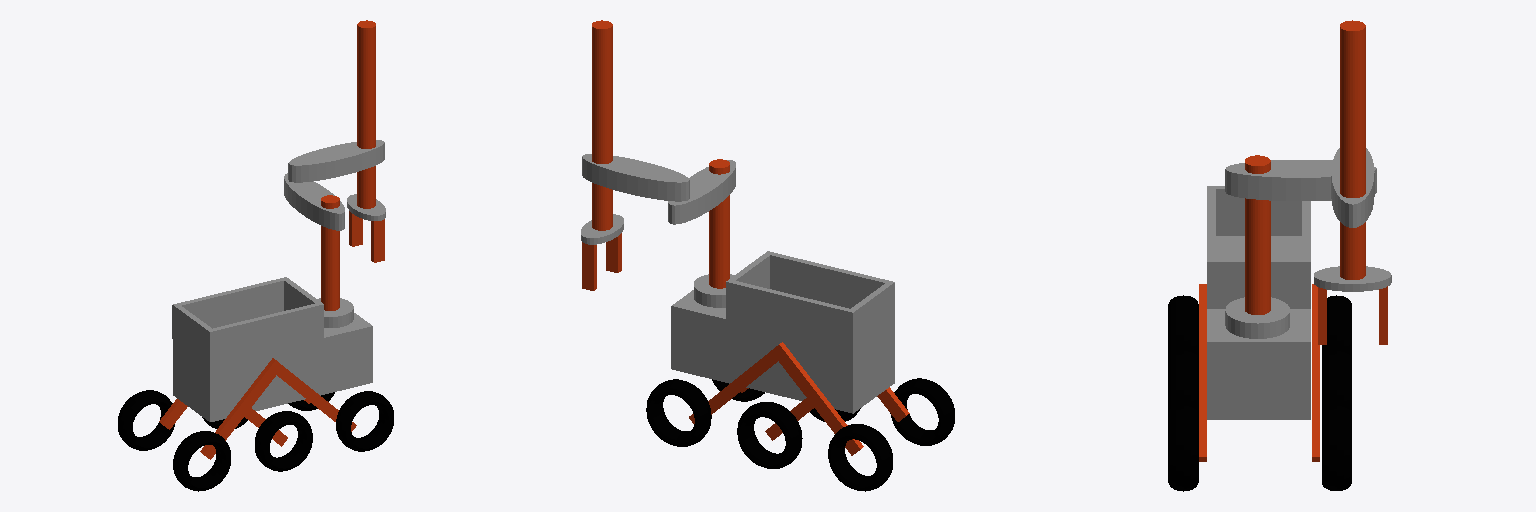
The robot description file, URDF, robot "rover_modelado":
<!-- <xacro:property name="mesh_path" value="package://rover_description/meshes/dae"/> -->
<!-- created with Phobos 1.0.1 "Capricious Choutengan" -->
<robot name="rover_modelado" version="1.0">

  <link name="base_footprint"/>

  <joint name="base_footprint_to_base_link" type="fixed">
    <origin xyz="0 0 0.5" rpy="0 0 0"/>
    <parent link="base_footprint"/>
    <child link="base_link"/>
  </joint>

  <link name="base_link"/>

  <joint name="base_link_to_body_link" type="fixed">
    <origin xyz="0 0 0" rpy="0 0 0"/>
    <parent link="base_link"/>
    <child link="body_link"/>
  </joint>

  <joint name="axis_left_link_joint" type="fixed">
    <origin rpy="1.60974 -0.01480 -0.06763" xyz="-0.35085 -0.70000 -0.47400"/>
    <parent link="body_link"/>
    <child link="axis_left_link"/>
    <axis xyz="0.00000 0.00000 1.00000"/>
  </joint>
  <joint name="back_left_wheel_link_joint" type="continuous">
    <limit effort="0.00000" velocity="0.00000"/>
    <origin rpy="-0.03655 0.06700 -0.01743" xyz="-1.43329 -0.48979 0.41533"/>
    <parent link="axis_left_link"/>
    <child link="back_left_wheel_link"/>
    <axis xyz="0.00000 0.00000 1.00000"/>
  </joint>
  <joint name="body_left_box_link_joint" type="fixed">
    <origin rpy="0.00000 0.00000 1.57080" xyz="-0.45192 -0.55000 0.79129"/>
    <parent link="body_link"/>
    <child link="body_left_box_link"/>
  </joint>
  <joint name="body_right_box_link_joint" type="fixed">
    <origin rpy="0.00000 0.00000 1.57080" xyz="-0.45192 0.55000 0.79129"/>
    <parent link="body_link"/>
    <child link="body_right_box_link"/>
  </joint>
  <joint name="fixed_base_arm_link_joint" type="fixed">
    <origin rpy="0.00000 0.00000 0.00000" xyz="1.05420 -0.01261 0.59836"/>
    <parent link="body_link"/>
    <child link="fixed_base_arm_link"/>
  </joint>
  <joint name="l0_arm_link_joint" type="fixed">
    <origin rpy="0.00000 0.00000 0.00000" xyz="0.00000 0.00000 -0.04593"/>
    <parent link="fixed_base_arm_link"/>
    <child link="l0_arm_link"/>
  </joint>
  <joint name="l1_arm_link_joint" type="continuous">
    <limit effort="0.00000" velocity="0.00000"/>
    <origin rpy="0.00000 0.00000 0.00000" xyz="0.00000 0.00480 1.93831"/>
    <parent link="l0_arm_link"/>
    <child link="l1_arm_link"/>
    <axis xyz="0.00000 0.00000 1.00000"/>
  </joint>
  <joint name="l2_arm_link_joint" type="revolute">
    <limit lower="-3.14000" upper="3.14000" effort="0.00000" velocity="0.00000"/>
    <origin rpy="0.00000 0.00000 1.57080" xyz="0.04172 1.09520 0.15762"/>
    <parent link="l1_arm_link"/>
    <child link="l2_arm_link"/>
    <axis xyz="0.00000 0.00000 1.00000"/>
  </joint>
  <joint name="l3_arm_link_joint" type="prismatic">
    <limit lower="-2.40000" upper="0.80000" effort="0.00000" velocity="0.00000"/>
    <origin rpy="0.00000 0.00000 -1.57080" xyz="0.00000 -1.26247 0.09521"/>
    <parent link="l2_arm_link"/>
    <child link="l3_arm_link"/>
    <axis xyz="0.00000 0.00000 1.00000"/>
  </joint>
  <joint name="clamp_base_link_joint" type="continuous">
    <limit effort="0.00000" velocity="0.00000"/>
    <origin rpy="0.00000 0.00000 0.00000" xyz="-0.00223 -0.00306 -0.95588"/>
    <parent link="l3_arm_link"/>
    <child link="clamp_base_link"/>
    <axis xyz="0.00000 0.00000 1.00000"/>
  </joint>
  <joint name="left_clamp_link_joint" type="prismatic">
    <limit lower="0.00000" upper="0.40000" effort="0.00000" velocity="0.00000"/>
    <origin rpy="-1.57080 0.00000 0.00000" xyz="0.01328 -0.34694 -0.48139"/>
    <parent link="clamp_base_link"/>
    <child link="left_clamp_link"/>
    <axis xyz="0.00000 0.00000 1.00000"/>
  </joint>
  <joint name="right_clamp_link_joint" type="prismatic">
    <limit lower="0.00000" upper="0.40000" effort="0.00000" velocity="0.00000"/>
    <origin rpy="1.57080 0.00000 0.00000" xyz="0.01328 0.35306 -0.50058"/>
    <parent link="clamp_base_link"/>
    <child link="right_clamp_link"/>
    <axis xyz="0.00000 0.00000 1.00000"/>
  </joint>
  <joint name="front_left_wheel_link_joint" type="continuous">
    <limit effort="0.00000" velocity="0.00000"/>
    <origin rpy="-0.03655 0.06700 -0.01743" xyz="1.55952 -0.54195 0.21447"/>
    <parent link="axis_left_link"/>
    <child link="front_left_wheel_link"/>
    <axis xyz="0.00000 0.00000 1.00000"/>
  </joint>
  <joint name="mid_left_wheel_link_joint" type="continuous">
    <limit effort="0.00000" velocity="0.00000"/>
    <origin rpy="-0.03655 0.06700 -0.01743" xyz="0.06311 -0.51587 0.31490"/>
    <parent link="axis_left_link"/>
    <child link="mid_left_wheel_link"/>
    <axis xyz="0.00000 0.00000 1.00000"/>
  </joint>
  <joint name="axis_right_link_joint" type="fixed">
    <origin rpy="-1.57080 0.00000 -0.02477" xyz="-0.35085 0.70000 -0.47400"/>
    <parent link="body_link"/>
    <child link="axis_right_link"/>
    <axis xyz="0.00000 0.00000 1.00000"/>
  </joint>
  <joint name="back_right_wheel_link_joint" type="continuous">
    <limit effort="0.00000" velocity="0.00000"/>
    <origin rpy="3.14159 -0.02477 -0.00000" xyz="-1.45614 0.52600 0.26402"/>
    <parent link="axis_right_link"/>
    <child link="back_right_wheel_link"/>
    <axis xyz="0.00000 0.00000 1.00000"/>
  </joint>
  <joint name="front_right_wheel_link_joint" type="continuous">
    <limit effort="0.00000" velocity="0.00000"/>
    <origin rpy="3.14159 -0.02477 -0.00000" xyz="1.54294 0.52600 0.33832"/>
    <parent link="axis_right_link"/>
    <child link="front_right_wheel_link"/>
    <axis xyz="0.00000 0.00000 1.00000"/>
  </joint>
  <joint name="mid_right_wheel_link_joint" type="continuous">
    <limit effort="0.00000" velocity="0.00000"/>
    <origin rpy="3.14159 -0.02477 -0.00000" xyz="0.04340 0.52600 0.30117"/>
    <parent link="axis_right_link"/>
    <child link="mid_right_wheel_link"/>
    <axis xyz="0.00000 0.00000 1.00000"/>
  </joint>
  <joint name="body_back_box_link_joint" type="fixed">
    <origin rpy="0.00000 0.00000 0.00000" xyz="-1.45000 0.00000 0.79130"/>
    <parent link="body_link"/>
    <child link="body_back_box_link"/>
  </joint>
  <joint name="body_front_box_link_joint" type="fixed">
    <origin rpy="0.00000 0.00000 0.00000" xyz="0.54967 0.00000 0.79130"/>
    <parent link="body_link"/>
    <child link="body_front_box_link"/>
  </joint>
  <link name="body_link">
    <collision name="body_collision">
      <origin rpy="0.00000 0.00000 0.00000" xyz="0.00000 0.00000 0.00000"/>
      <geometry>
        <box size="3.00000 1.20000 1.00000"/>
      </geometry>
    </collision>
    <inertial>
      <inertia ixx="10.16667" ixy="0.00000" ixz="0.00000" iyy="41.66667" iyz="0.00000" izz="43.50000"/>
      <origin rpy="0.00000 0.00000 0.00000" xyz="0.00000 0.00000 0.00000"/>
      <mass value="50.00000"/>
    </inertial>
    <visual name="body">
      <material name="Material.005"/>
      <origin rpy="0.00000 0.00000 0.00000" xyz="0.00000 0.00000 0.00000"/>
      <geometry>
        <box size="3.00000 1.20000 1.00000"/>
      </geometry>
    </visual>
  </link>
  <link name="axis_left_link">
    <collision name="axis_left_collision">
      <origin rpy="-1.55093 0.07494 0.77002" xyz="-0.01304 0.01116 -0.07670"/>
      <geometry>
        <mesh filename="../meshes/dae/Cube.005.dae" scale="0.95000 0.05000 0.10000"/>
      </geometry>
    </collision>
    <inertial>
      <inertia ixx="0.00100" ixy="-0.00000" ixz="-0.00000" iyy="0.00100" iyz="0.00000" izz="0.00100"/>
      <origin rpy="0.00000 0.00000 0.00000" xyz="0.00000 -0.00000 0.00000"/>
      <mass value="3.00000"/>
    </inertial>
    <visual name="axis_left">
      <material name="orange.001"/>
      <origin rpy="-1.55093 0.07494 0.77002" xyz="-0.00365 -0.00204 -0.05382"/>
      <geometry>
        <mesh filename="../meshes/dae/Cube.005.dae" scale="0.95000 0.05000 0.10000"/>
      </geometry>
    </visual>
  </link>
  <link name="body_front_box_link">
    <collision name="body_front_box_collision">
      <origin rpy="0.00000 0.00000 0.00000" xyz="0.00000 0.00000 0.00000"/>
      <geometry>
        <box size="0.10000 1.20000 0.60000"/>
      </geometry>
    </collision>
    <visual name="body_front_box">
      <material name="Material.005"/>
      <origin rpy="0.00000 0.00000 0.00000" xyz="0.00000 0.00000 0.00000"/>
      <geometry>
        <box size="0.10000 1.20000 0.60000"/>
      </geometry>
    </visual>
  </link>
  <link name="body_left_box_link">
    <collision name="body_left_box_collision">
      <origin rpy="0.00000 0.00000 -0.00000" xyz="-0.00000 -0.00000 0.00000"/>
      <geometry>
        <box size="0.10000 2.10000 0.60000"/>
      </geometry>
    </collision>
    <visual name="body_left_box">
      <material name="Material.005"/>
      <origin rpy="0.00000 0.00000 0.00000" xyz="0.00000 -0.00000 0.00000"/>
      <geometry>
        <box size="0.10000 2.10000 0.60000"/>
      </geometry>
    </visual>
  </link>
  <link name="body_right_box_link">
    <collision name="body_right_box_collision">
      <origin rpy="0.00000 0.00000 -0.00000" xyz="0.00000 0.00000 0.00000"/>
      <geometry>
        <box size="0.10000 2.10000 0.60000"/>
      </geometry>
    </collision>
    <visual name="body_right_box">
      <material name="Material.006"/>
      <origin rpy="0.00000 0.00000 0.00000" xyz="0.00000 0.00000 0.00000"/>
      <geometry>
        <box size="0.10000 2.10000 0.60000"/>
      </geometry>
    </visual>
  </link>
  <link name="fixed_base_arm_link">
    <collision name="fixed_base_arm_collision">
      <origin rpy="0.00000 0.00000 0.00000" xyz="0.00000 0.00000 0.00000"/>
      <geometry>
        <mesh filename="../meshes/dae/Cylinder.dae" scale="0.37500 0.37500 0.10000"/>
      </geometry>
    </collision>
    <inertial>
      <inertia ixx="0.19132" ixy="0.00000" ixz="0.00000" iyy="0.19132" iyz="0.00000" izz="0.34931"/>
      <origin rpy="0.00000 0.00000 0.00000" xyz="0.00000 0.00000 0.00000"/>
      <mass value="5.00000"/>
    </inertial>
    <visual name="fixed_base_arm">
      <material name="Material.005"/>
      <origin rpy="0.00000 0.00000 0.00000" xyz="0.00000 0.00000 0.00000"/>
      <geometry>
        <mesh filename="../meshes/dae/Cylinder.dae" scale="0.37500 0.37500 0.10000"/>
      </geometry>
    </visual>
  </link>
  <link name="l0_arm_link">
    <collision name="l0_arm_collision">
      <origin rpy="0.00000 0.00000 0.00000" xyz="0.00000 0.00000 1.04593"/>
      <geometry>
        <mesh filename="../meshes/dae/Cylinder.001.dae" scale="0.15000 0.15000 1.00000"/>
      </geometry>
    </collision>
    <inertial>
      <inertia ixx="1.69461" ixy="0.00000" ixz="0.00000" iyy="1.69461" iyz="0.00000" izz="0.05589"/>
      <origin rpy="0.00000 0.00000 0.00000" xyz="0.00000 0.00000 1.04593"/>
      <mass value="5.00000"/>
    </inertial>
    <visual name="l0_arm">
      <material name="orange"/>
      <origin rpy="0.00000 0.00000 0.00000" xyz="0.00000 0.00000 1.04593"/>
      <geometry>
        <mesh filename="../meshes/dae/Cylinder.001.dae" scale="0.15000 0.15000 1.00000"/>
      </geometry>
    </visual>
  </link>
  <link name="l1_arm_link">
    <collision name="l1_arm_collision">
      <origin rpy="0.00000 0.00000 0.00000" xyz="0.00000 0.49520 -0.14238"/>
      <geometry>
        <mesh filename="../meshes/dae/Cylinder.002.dae" scale="0.25000 0.87500 0.15000"/>
      </geometry>
    </collision>
    <inertial>
      <inertia ixx="0.98840" ixy="-0.00000" ixz="0.00000" iyy="0.11512" iyz="-0.00000" izz="1.02853"/>
      <origin rpy="0.00000 0.00000 0.00000" xyz="0.00000 0.49520 -0.14238"/>
      <mass value="5.00000"/>
    </inertial>
    <visual name="l1_arm">
      <material name="Material.005"/>
      <origin rpy="0.00000 0.00000 0.00000" xyz="0.00000 0.49520 -0.14238"/>
      <geometry>
        <mesh filename="../meshes/dae/Cylinder.002.dae" scale="0.25000 0.87500 0.15000"/>
      </geometry>
    </visual>
  </link>
  <link name="l2_arm_link">
    <collision name="l2_arm_collision">
      <origin rpy="0.00000 0.00000 0.00000" xyz="0.00000 -0.70828 0.00000"/>
      <geometry>
        <mesh filename="../meshes/dae/Cylinder.003.dae" scale="0.25000 0.87500 0.15000"/>
      </geometry>
    </collision>
    <inertial>
      <inertia ixx="0.04605" ixy="-0.00000" ixz="0.00000" iyy="0.39536" iyz="-0.00000" izz="0.41141"/>
      <origin rpy="0.00000 0.00000 0.00000" xyz="0.00000 -0.70828 0.00000"/>
      <mass value="2.00000"/>
    </inertial>
    <visual name="l2_arm">
      <material name="Material.005"/>
      <origin rpy="0.00000 0.00000 -0.00000" xyz="0.00000 -0.70828 0.00000"/>
      <geometry>
        <mesh filename="../meshes/dae/Cylinder.003.dae" scale="0.25000 0.87500 0.15000"/>
      </geometry>
    </visual>
  </link>
  <link name="l3_arm_link">
    <collision name="l3_arm_collision">
      <origin rpy="0.00000 0.00000 0.00000" xyz="0.00000 0.00000 0.58392"/>
      <geometry>
        <mesh filename="../meshes/dae/Cylinder.004.dae" scale="0.15000 0.15000 1.60000"/>
      </geometry>
    </collision>
    <inertial>
      <inertia ixx="1.71784" ixy="0.00000" ixz="0.00000" iyy="1.71784" iyz="0.00000" izz="0.02236"/>
      <origin rpy="0.00000 0.00000 0.00000" xyz="0.00000 0.00000 0.58392"/>
      <mass value="2.00000"/>
    </inertial>
    <visual name="l3_arm">
      <material name="orange"/>
      <origin rpy="0.00000 0.00000 0.00000" xyz="0.00000 0.00000 0.58392"/>
      <geometry>
        <mesh filename="../meshes/dae/Cylinder.004.dae" scale="0.15000 0.15000 1.60000"/>
      </geometry>
    </visual>
  </link>
  <link name="clamp_base_link">
    <collision name="clamp_base_collision">
      <origin rpy="0.00000 0.00000 0.00000" xyz="0.00000 0.00000 -0.08713"/>
      <geometry>
        <mesh filename="../meshes/dae/Cylinder.005.dae" scale="0.25000 0.45000 0.05000"/>
      </geometry>
    </collision>
    <inertial>
      <inertia ixx="0.02557" ixy="-0.00000" ixz="0.00000" iyy="0.00818" iyz="-0.00000" izz="0.03291"/>
      <origin rpy="0.00000 0.00000 0.00000" xyz="0.00000 0.00000 -0.08713"/>
      <mass value="0.50000"/>
    </inertial>
    <visual name="clamp_base">
      <material name="Material.005"/>
      <origin rpy="0.00000 0.00000 0.00000" xyz="0.00000 0.00000 -0.08713"/>
      <geometry>
        <mesh filename="../meshes/dae/Cylinder.005.dae" scale="0.25000 0.45000 0.05000"/>
      </geometry>
    </visual>
  </link>
  <link name="left_clamp_link">
    <collision name="left_clamp_collision">
      <origin rpy="-1.57080 0.00000 0.00000" xyz="0.00000 0.02217 0.00000"/>
      <geometry>
        <mesh filename="../meshes/dae/Cube.003.dae" scale="0.10000 0.05000 0.37500"/>
      </geometry>
    </collision>
    <inertial>
      <inertia ixx="0.02385" ixy="0.00000" ixz="0.00000" iyy="0.02510" iyz="-0.00000" izz="0.00208"/>
      <origin rpy="0.00000 0.00000 0.00000" xyz="0.00000 0.02217 0.00000"/>
      <mass value="0.50000"/>
    </inertial>
    <visual name="left_clamp">
      <material name="orange"/>
      <origin rpy="1.57080 0.00000 0.00000" xyz="0.00000 0.02217 0.00000"/>
      <geometry>
        <box size="0.20000 0.10000 0.75000"/>
      </geometry>
    </visual>
  </link>
  <link name="back_left_wheel_link">
    <collision name="back_left_wheel_collision">
      <origin rpy="-0.00497 -0.00000 0.00000" xyz="-0.00000 0.00042 -0.12869"/>
      <geometry>
        <mesh filename="../meshes/dae/Torus.005.dae" scale="0.40000 0.40000 0.70000"/>
      </geometry>
    </collision>
    <inertial>
      <inertia ixx="0.19403" ixy="-0.00000" ixz="0.00000" iyy="0.35189" iyz="-0.00000" izz="0.19403"/>
      <origin rpy="0.00000 0.00000 0.00000" xyz="-0.00000 0.00042 -0.12869"/>
      <mass value="3.00000"/>
    </inertial>
    <visual name="back_left_wheel">
      <material name="Material.003"/>
      <origin rpy="-0.00249 -0.00000 0.00000" xyz="-0.00000 0.00042 -0.12869"/>
      <geometry>
        <mesh filename="../meshes/dae/Torus.005.dae" scale="0.40000 0.40000 0.70000"/>
      </geometry>
    </visual>
  </link>
  <link name="right_clamp_link">
    <collision name="right_clamp_collision">
      <origin rpy="-1.57080 0.00000 0.00000" xyz="0.00000 0.06532 -0.00000"/>
      <geometry>
        <mesh filename="../meshes/dae/Cube.004.dae" scale="0.10000 0.05000 0.37500"/>
      </geometry>
    </collision>
    <inertial>
      <inertia ixx="0.02385" ixy="0.00000" ixz="0.00000" iyy="0.02510" iyz="0.00000" izz="0.00208"/>
      <origin rpy="0.00000 0.00000 0.00000" xyz="0.00000 0.06532 0.00000"/>
      <mass value="0.50000"/>
    </inertial>
    <visual name="right_clamp">
      <material name="orange"/>
      <origin rpy="-1.57080 0.00000 0.00000" xyz="0.00000 -0.00301 0.00000"/>
      <geometry>
        <box size="0.20000 0.10000 0.75000"/>
      </geometry>
    </visual>
  </link>
  <link name="front_left_wheel_link">
    <collision name="front_left_wheel_collision">
      <origin rpy="-0.00497 -0.00000 0.00000" xyz="0.00000 0.00043 -0.12796"/>
      <geometry>
        <mesh filename="../meshes/dae/Torus.009.dae" scale="0.40000 0.40000 0.70000"/>
      </geometry>
    </collision>
    <inertial>
      <inertia ixx="0.19403" ixy="-0.00000" ixz="0.00000" iyy="0.35189" iyz="-0.00000" izz="0.19403"/>
      <origin rpy="0.00000 0.00000 0.00000" xyz="0.00000 0.00043 -0.12796"/>
      <mass value="3.00000"/>
    </inertial>
    <visual name="front_left_wheel">
      <material name="wheels"/>
      <origin rpy="-0.00249 -0.00000 0.00000" xyz="0.00000 0.00043 -0.12796"/>
      <geometry>
        <mesh filename="../meshes/dae/Torus.009.dae" scale="0.40000 0.40000 0.70000"/>
      </geometry>
    </visual>
  </link>
  <link name="mid_left_wheel_link">
    <collision name="mid_left_wheel_collision">
      <origin rpy="-0.00497 -0.00000 0.00000" xyz="0.00000 0.00042 -0.12869"/>
      <geometry>
        <mesh filename="../meshes/dae/Torus.006.dae" scale="0.40000 0.40000 0.70000"/>
      </geometry>
    </collision>
    <inertial>
      <inertia ixx="0.19403" ixy="-0.00000" ixz="0.00000" iyy="0.35189" iyz="-0.00000" izz="0.19403"/>
      <origin rpy="0.00000 0.00000 0.00000" xyz="0.00000 0.00042 -0.12869"/>
      <mass value="3.00000"/>
    </inertial>
    <visual name="mid_left_wheel">
      <material name="Material.004"/>
      <origin rpy="-0.00249 -0.00000 0.00000" xyz="0.00000 0.00042 -0.12869"/>
      <geometry>
        <mesh filename="../meshes/dae/Torus.006.dae" scale="0.40000 0.40000 0.70000"/>
      </geometry>
    </visual>
  </link>
  <link name="axis_right_link">
    <collision name="axis_right_collision">
      <origin rpy="1.58831 -0.01751 -0.78555" xyz="-0.02891 0.01341 -0.04021"/>
      <geometry>
        <mesh filename="../meshes/dae/Cube.007.dae" scale="0.95000 0.05000 0.10000"/>
      </geometry>
    </collision>
    <inertial>
      <inertia ixx="0.38352" ixy="-0.00000" ixz="0.08781" iyy="1.49498" iyz="0.00000" izz="1.11529"/>
      <origin rpy="0.00000 0.00000 0.00000" xyz="0.00095 0.00000 -0.03832"/>
      <mass value="3.00000"/>
    </inertial>
    <visual name="axis_right">
      <material name="orange"/>
      <origin rpy="1.58831 -0.01751 -0.78555" xyz="0.00095 0.00000 -0.03832"/>
      <geometry>
        <mesh filename="../meshes/dae/Cube.007.dae" scale="0.95000 0.05000 0.10000"/>
      </geometry>
    </visual>
  </link>
  <link name="back_right_wheel_link">
    <collision name="back_right_wheel_collision">
      <origin rpy="-3.14159 0.00000 0.00000" xyz="-0.00000 0.00000 0.10000"/>
      <geometry>
        <mesh filename="../meshes/dae/Torus.dae" scale="0.40000 0.40000 0.70000"/>
      </geometry>
    </collision>
    <inertial>
      <inertia ixx="0.19403" ixy="0.00000" ixz="0.00000" iyy="0.35189" iyz="-0.00000" izz="0.19403"/>
      <origin rpy="0.00000 0.00000 0.00000" xyz="-0.00000 0.00000 0.10000"/>
      <mass value="3.00000"/>
    </inertial>
    <visual name="back_right_wheel">
      <material name="Material.002"/>
      <origin rpy="-0.00000 0.00000 0.00000" xyz="-0.00000 0.00000 0.10000"/>
      <geometry>
        <mesh filename="../meshes/dae/Torus.dae" scale="0.40000 0.40000 0.70000"/>
      </geometry>
    </visual>
  </link>
  <link name="front_right_wheel_link">
    <collision name="front_right_wheel_collision">
      <origin rpy="-3.14159 0.00000 0.00000" xyz="0.00000 0.00000 0.10000"/>
      <geometry>
        <mesh filename="../meshes/dae/Torus.008.dae" scale="0.40000 0.40000 0.70000"/>
      </geometry>
    </collision>
    <inertial>
      <inertia ixx="0.19403" ixy="0.00000" ixz="0.00000" iyy="0.35189" iyz="-0.00000" izz="0.19403"/>
      <origin rpy="0.00000 0.00000 0.00000" xyz="-0.00000 0.00000 0.10000"/>
      <mass value="3.00000"/>
    </inertial>
    <visual name="front_right_wheel">
      <material name="Material"/>
      <origin rpy="-0.00000 0.00000 0.00000" xyz="0.00000 0.00000 0.10000"/>
      <geometry>
        <mesh filename="../meshes/dae/Torus.008.dae" scale="0.40000 0.40000 0.70000"/>
      </geometry>
    </visual>
  </link>
  <link name="mid_right_wheel_link">
    <collision name="mid_right_wheel_collision">
      <origin rpy="-3.14159 0.00000 0.00000" xyz="-0.00000 0.00000 0.11498"/>
      <geometry>
        <mesh filename="../meshes/dae/Torus.007.dae" scale="0.40000 0.40000 0.70000"/>
      </geometry>
    </collision>
    <inertial>
      <inertia ixx="0.19403" ixy="0.00000" ixz="0.00000" iyy="0.35189" iyz="-0.00000" izz="0.19403"/>
      <origin rpy="0.00000 0.00000 0.00000" xyz="-0.00000 0.00000 0.10000"/>
      <mass value="3.00000"/>
    </inertial>
    <visual name="mid_right_wheel">
      <material name="Material.001"/>
      <origin rpy="-0.00000 0.00000 0.00000" xyz="-0.00000 0.00000 0.10000"/>
      <geometry>
        <mesh filename="../meshes/dae/Torus.007.dae" scale="0.40000 0.40000 0.70000"/>
      </geometry>
    </visual>
  </link>
  <link name="body_back_box_link">
    <collision name="body_back_box_collision">
      <origin rpy="0.00000 0.00000 0.00000" xyz="0.00000 0.00000 0.00000"/>
      <geometry>
        <box size="0.10000 1.20000 0.60000"/>
      </geometry>
    </collision>
    <visual name="body_back_box">
      <material name="Material.005"/>
      <origin rpy="0.00000 0.00000 0.00000" xyz="0.00000 0.00000 0.00000"/>
      <geometry>
        <box size="0.10000 1.20000 0.60000"/>
      </geometry>
    </visual>
  </link>
  <material name="Material">
    <color rgba="0.01176 0.01176 0.01176 1.00000"/>
  </material>
  <material name="Material.001">
    <color rgba="0.01176 0.01176 0.01176 1.00000"/>
  </material>
  <material name="Material.002">
    <color rgba="0.01176 0.01176 0.01176 1.00000"/>
  </material>
  <material name="Material.003">
    <color rgba="0.01176 0.01176 0.01176 1.00000"/>
  </material>
  <material name="Material.004">
    <color rgba="0.01176 0.01176 0.01176 1.00000"/>
  </material>
  <material name="Material.005">
    <color rgba="0.61176 0.61176 0.61176 1.00000"/>
  </material>
  <material name="Material.006">
    <color rgba="0.61176 0.61176 0.61176 1.00000"/>
  </material>
  <material name="orange">
    <color rgba="0.80000 0.27059 0.09804 1.00000"/>
  </material>
  <material name="orange.001">
    <color rgba="0.80000 0.27451 0.09804 1.00000"/>
  </material>
  <material name="wheels">
    <color rgba="0.01176 0.01176 0.01176 1.00000"/>
  </material>
</robot>

--- Render facts (derived) ---
The picture shows the robot from 3 angles, left to right: view 1: azimuth 30°, elevation 25°; view 2: azimuth 150°, elevation 25°; view 3: azimuth 270°, elevation 25°; orthographic projection.
Model rover_modelado with 23 links and 22 joints (1 revolute, 8 continuous, 3 prismatic, 10 fixed), rooted at base_footprint, posed every joint at zero.
Visible links, largest first — view 1: body_link, body_left_box_link, l3_arm_link, body_right_box_link, axis_left_link, l2_arm_link, front_left_wheel_link, back_left_wheel_link, mid_left_wheel_link, back_right_wheel_link, l1_arm_link, l0_arm_link (+5 smaller); view 2: body_link, body_right_box_link, l3_arm_link, body_left_box_link, axis_right_link, l2_arm_link, front_right_wheel_link, mid_right_wheel_link, back_right_wheel_link, back_left_wheel_link, l1_arm_link, l0_arm_link (+7 smaller); view 3: body_link, l3_arm_link, l1_arm_link, body_front_box_link, l0_arm_link, front_left_wheel_link, front_right_wheel_link, body_back_box_link, fixed_base_arm_link, l2_arm_link, mid_left_wheel_link, back_left_wheel_link (+6 smaller).
Boxes of the visible links, x1,y1,x2,y2 form: body_link: (173,313,372,421); body_left_box_link: (207,303,318,365); l3_arm_link: (357,20,375,208); body_right_box_link: (172,278,283,340); axis_left_link: (200,358,356,459); l2_arm_link: (288,140,384,182); front_left_wheel_link: (336,391,393,451); back_left_wheel_link: (173,431,230,491); mid_left_wheel_link: (255,411,312,471); back_right_wheel_link: (118,390,174,450); l1_arm_link: (284,173,344,230); l0_arm_link: (321,195,339,310); body_link: (671,290,894,413); body_right_box_link: (726,281,856,350); l3_arm_link: (592,20,612,230); body_left_box_link: (770,253,894,321); axis_right_link: (689,342,863,455); l2_arm_link: (582,154,689,201); front_right_wheel_link: (646,379,711,446); mid_right_wheel_link: (737,402,802,468); back_right_wheel_link: (828,424,892,491); back_left_wheel_link: (890,378,954,445); l1_arm_link: (668,160,735,224); l0_arm_link: (709,159,729,288); body_link: (1207,236,1310,419); l3_arm_link: (1340,20,1365,279); l1_arm_link: (1225,160,1376,200); body_front_box_link: (1207,259,1310,308); l0_arm_link: (1245,155,1270,314); front_left_wheel_link: (1168,405,1198,491); front_right_wheel_link: (1322,405,1351,490); body_back_box_link: (1207,186,1301,235); fixed_base_arm_link: (1225,297,1289,338); l2_arm_link: (1331,148,1374,227); mid_left_wheel_link: (1168,350,1198,413); back_left_wheel_link: (1168,295,1198,358).
Size in the robot's own frame: 4.98 by 2.58 by 6.43 metres.
14 mesh visuals loaded from 14 distinct referenced files (14 Collada DAE).
